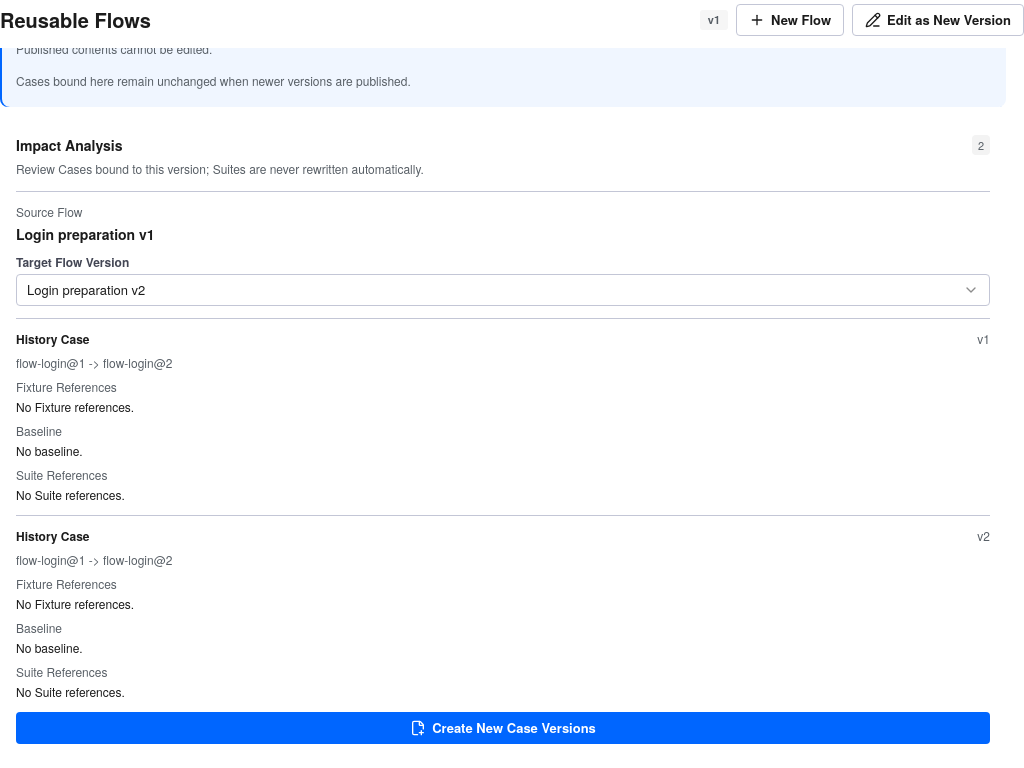
Test case: ReusableFlowsPage › blocks confirmation when more than one historical revision of a logical Case is selected
(page scrolled)
Step 1. Click the button "Create New Case Versions" → [503, 728], box [16,712,990,744]
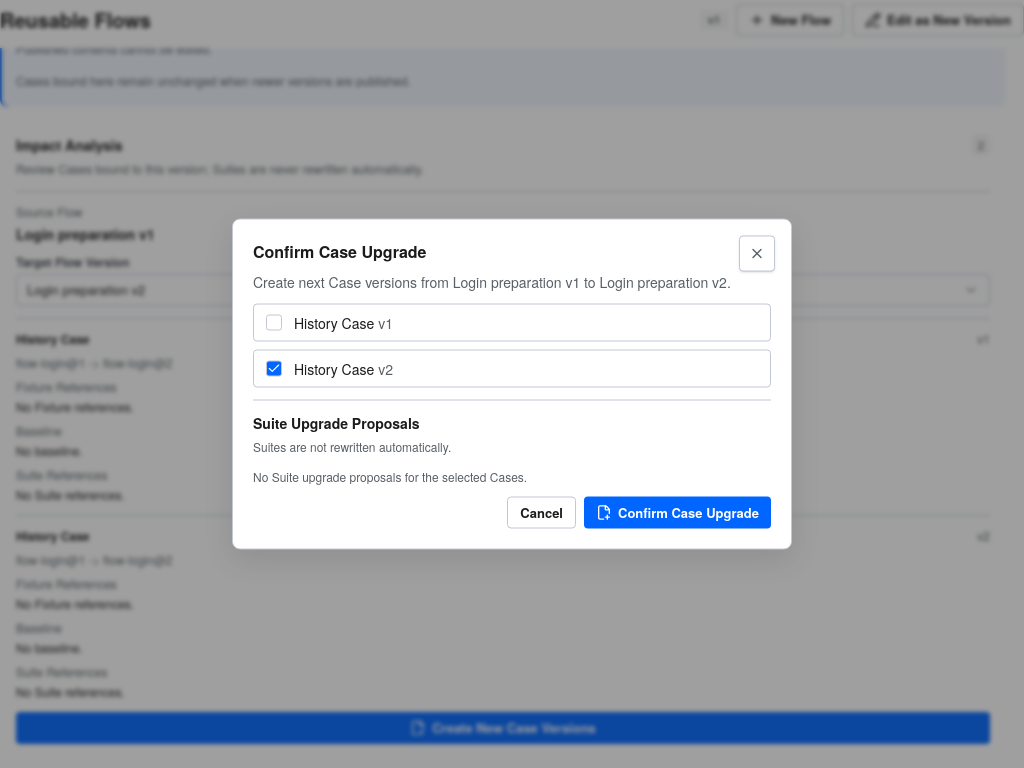
Result: the checkbox named "Upgrade History Case v2" is checked at [266,360,282,376]
Result: the checkbox named "Upgrade History Case v1" is not checked
Step 2. Click the checkbox named "Upgrade History Case v1" → [274, 322], box [266,314,282,330]
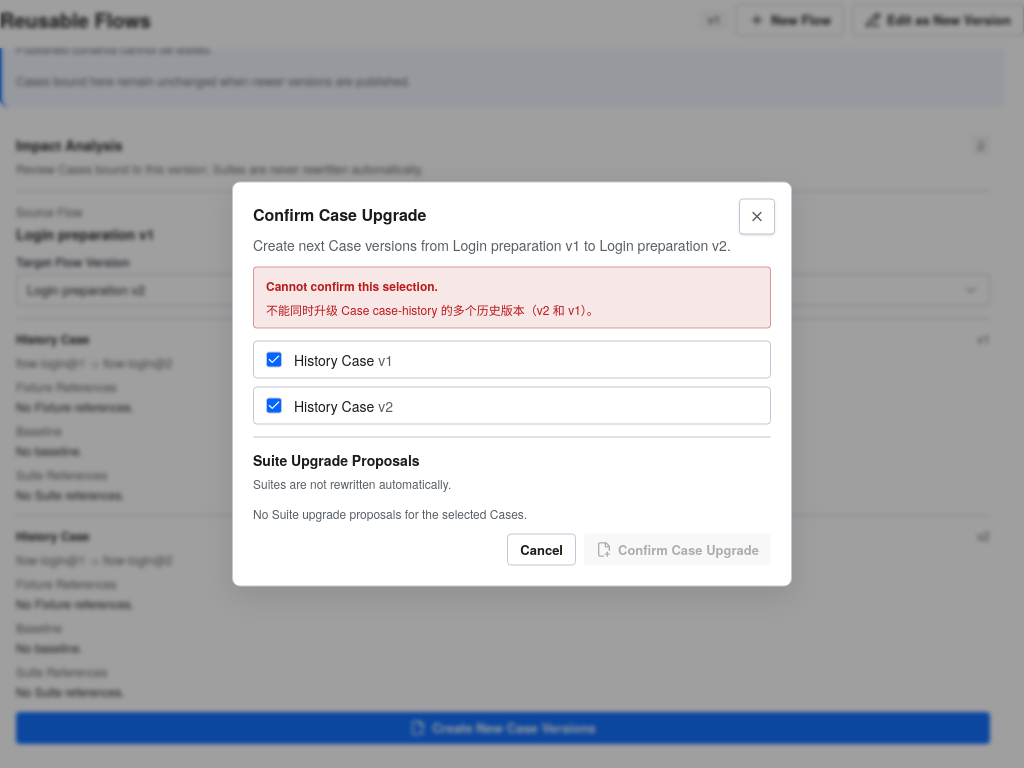
Result: the message shows "Cannot confirm this selection." at [266,276,438,294]
Result: the button "Confirm Case Upgrade" is disabled at [584,534,771,566]
